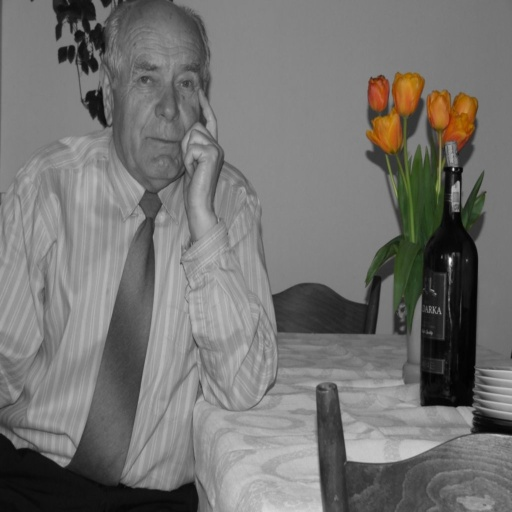hand: (169, 101, 229, 268)
